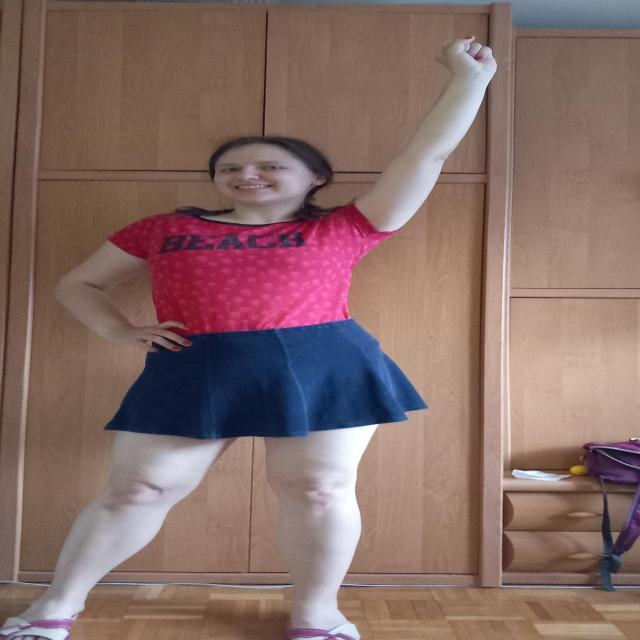Tshirt: (107, 198, 400, 341)
skirt: (105, 318, 428, 441)
